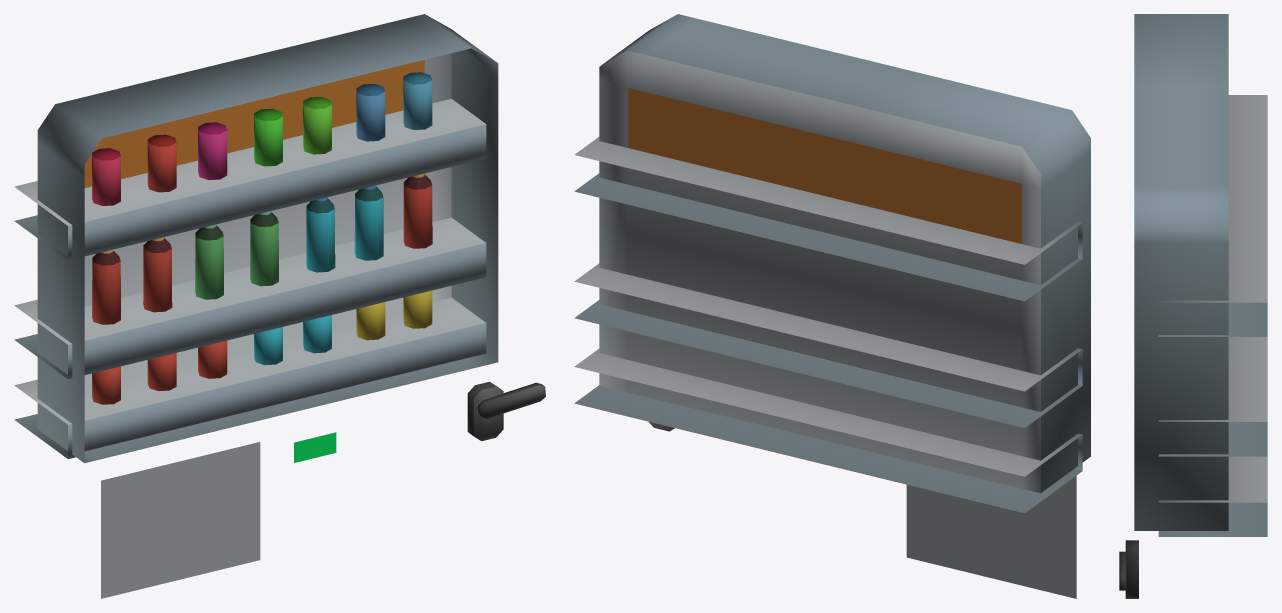
3 views of the same model, side by side, from view 1: azimuth 30°, elevation 25°; view 2: azimuth 150°, elevation 25°; view 3: azimuth 270°, elevation 25° (orthographic). The views are drawn at different scales.
Visible parts, largest first — view 1: base.029; view 2: base.029; view 3: base.029.
Boxes of the visible parts, x1=… form: base.029: x1=14, y1=14, x2=545, y2=598; base.029: x1=574, y1=14, x2=1090, y2=598; base.029: x1=1119, y1=14, x2=1267, y2=598.
Bounding box in the file's own units: 0.5 × 0.4783 × 0.1391.
